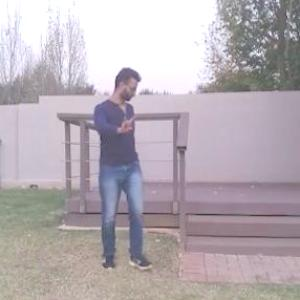takeoff-hand: (114, 108, 142, 139)
